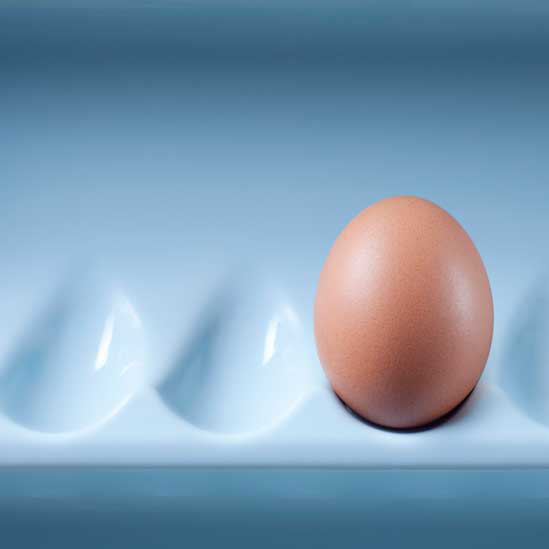egg: (314, 196, 495, 429)
